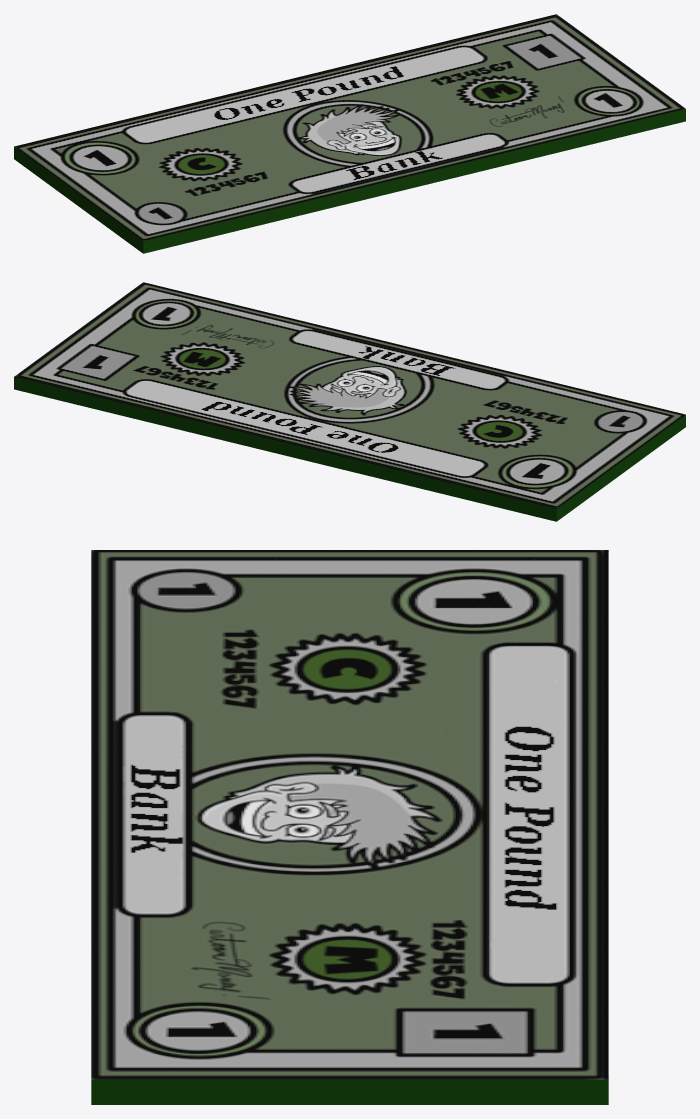
The model's file is Note.fbx.
The picture shows the model from 3 angles, top to bottom: view 1: azimuth 30°, elevation 25°; view 2: azimuth 150°, elevation 25°; view 3: azimuth 270°, elevation 25°; orthographic projection. The views are drawn at different scales.
Parts seen in each view (by area): view 1: Cube; view 2: Cube; view 3: Cube.
Part boxes in pixels (x1,y1,x2,y2): Cube: (14,14,685,253); Cube: (14,282,685,521); Cube: (91,550,608,1104).
Bounding box in the file's own units: 10.26 × 0.2274 × 4.24.
